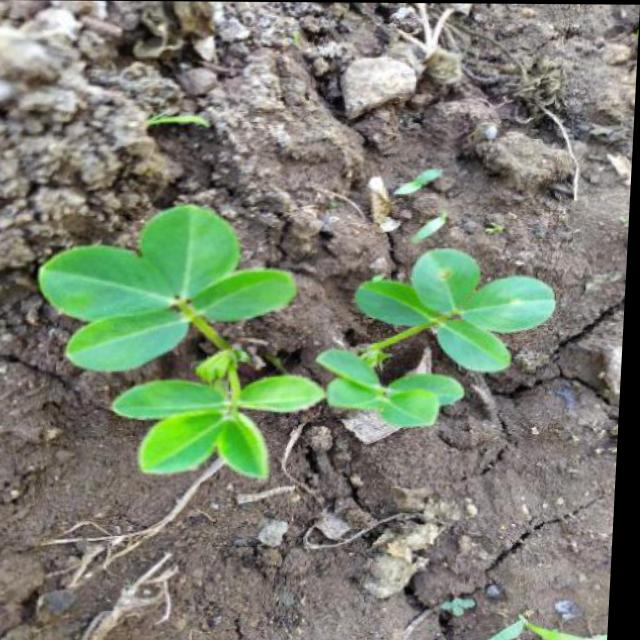weed: (17, 209, 554, 493)
